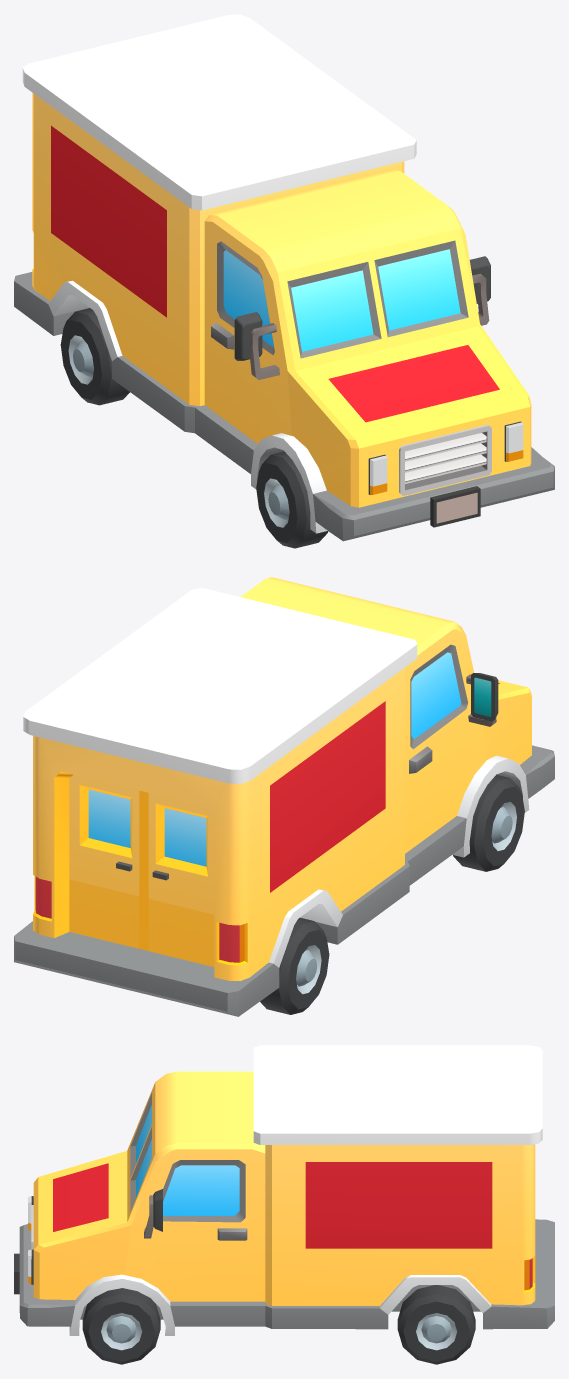
File: Cargo_01.glb
3 renders of one model, top to bottom at view 1: azimuth 30°, elevation 25°; view 2: azimuth 150°, elevation 25°; view 3: azimuth 270°, elevation 25°, orthographic. The views are drawn at different scales.
Parts seen in each view (by area): view 1: Cargo_01, Wheel_225, Wheel_226; view 2: Cargo_01, Wheel_225, Wheel_226; view 3: Cargo_01, Wheel_228, Wheel_227.
Boxes of the visible parts, left/top/right/bottom form: Cargo_01: left=14, top=14, right=554, bottom=541; Wheel_225: left=256, top=451, right=328, bottom=548; Wheel_226: left=60, top=308, right=129, bottom=405; Cargo_01: left=14, top=577, right=554, bottom=1016; Wheel_225: left=453, top=774, right=524, bottom=871; Wheel_226: left=260, top=917, right=329, bottom=1014; Cargo_01: left=14, top=1045, right=554, bottom=1335; Wheel_228: left=397, top=1285, right=475, bottom=1364; Wheel_227: left=82, top=1288, right=160, bottom=1364.
Size of the model in its own units: 2.4 by 2.63 by 5.53.
Materials: 2 (2 with a texture image).
